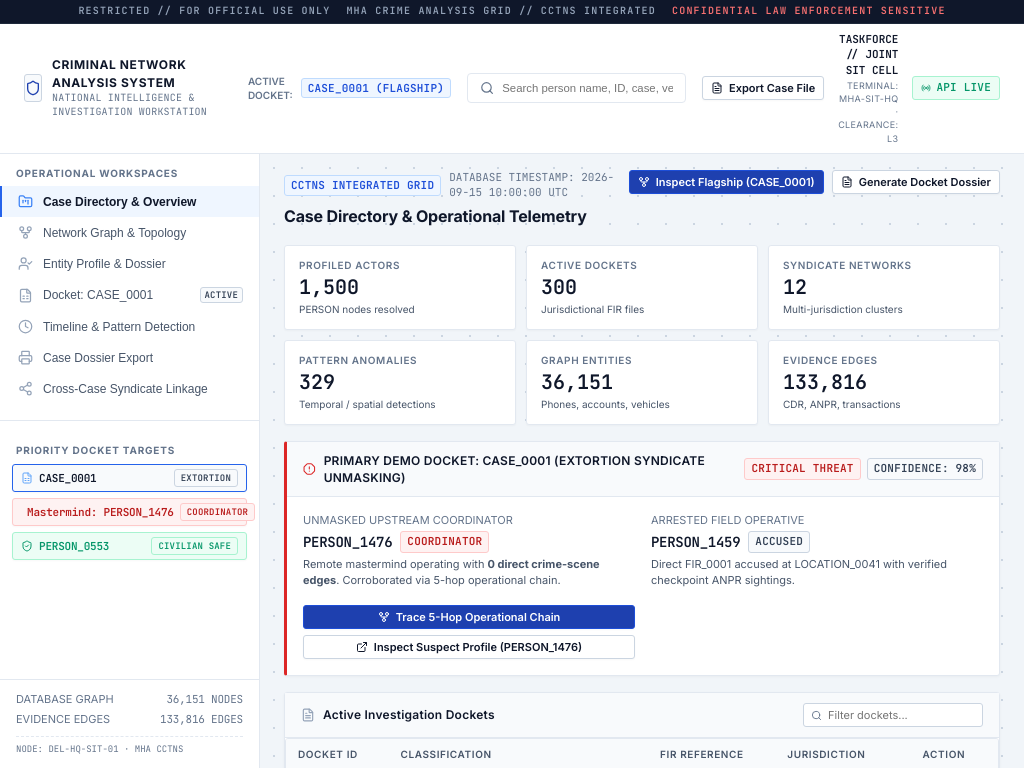
Scenario: SIH26189 Tactical Workstation Frontend Test Suite › navigates to Cross-Case Linkages page and evaluates criminal vs incidental overlaps
The image size is (1024, 768).
// Navigate to Cross-Case tab
Click the button with test id "nav-cross-case" at (130, 388), box [0, 373, 259, 404]
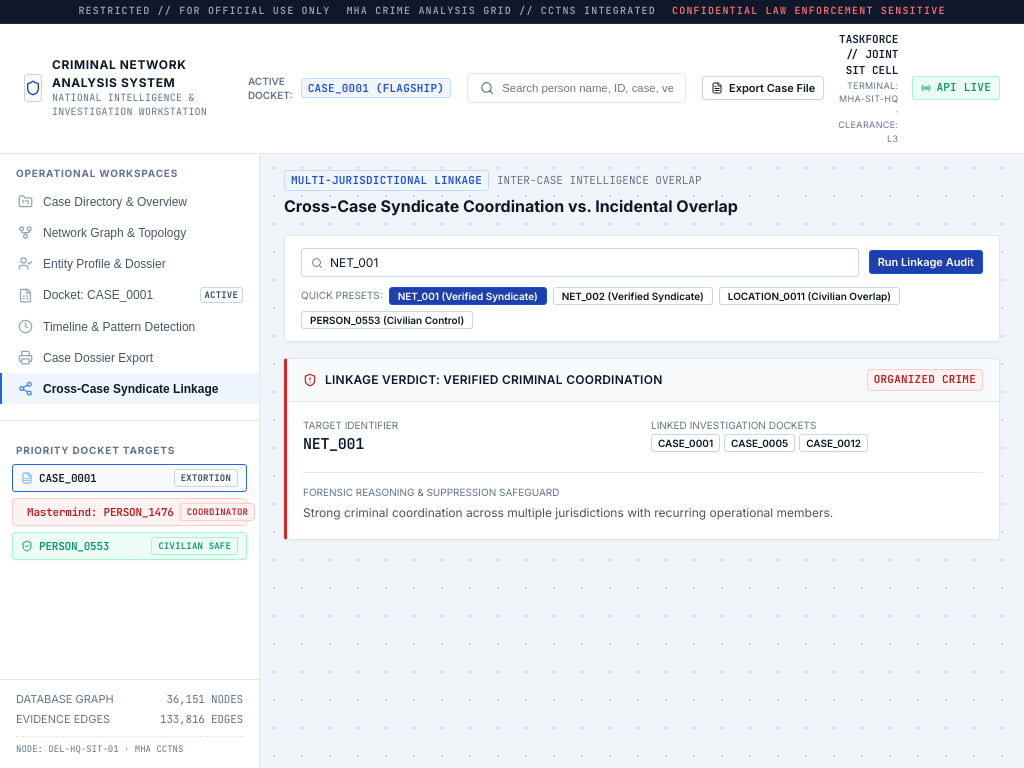
Now the heading "Cross-Case Syndicate Coordination vs. Incidental Overlap" is shown, box [284, 196, 738, 216]
Now the text "LINKAGE VERDICT: VERIFIED CRIMINAL COORDINATION" is shown, box [325, 371, 662, 388]
Now the text "ORGANIZED CRIME" is shown, box [867, 369, 983, 391]
// Click incidental preset
Click the button "LOCATION_0011 (Civilian Overlap)" at (809, 296), box [719, 287, 900, 305]
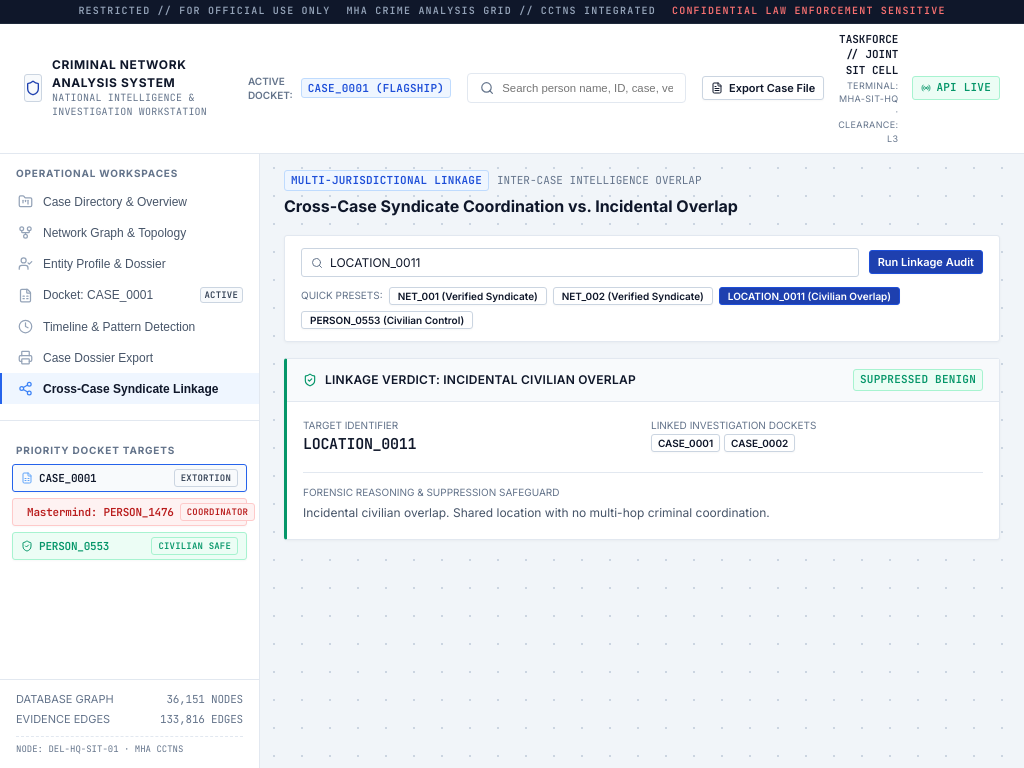
Now the text "SUPPRESSED BENIGN" is shown, box [853, 369, 983, 391]
